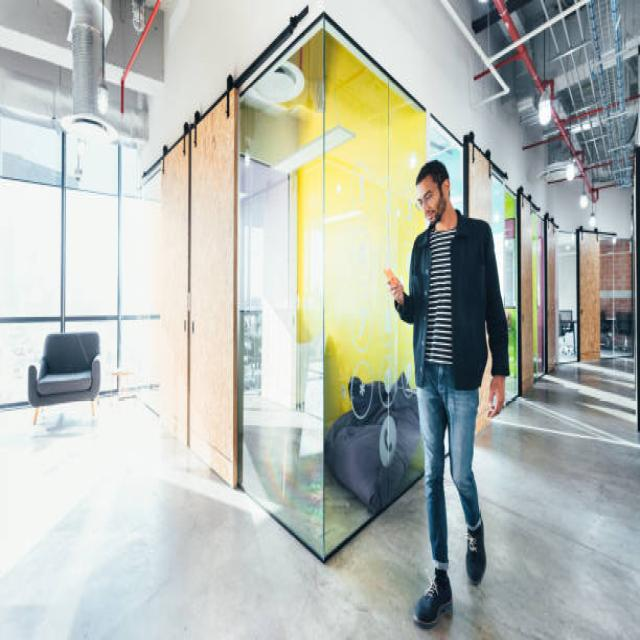Real human 2: (375, 145, 524, 638)
